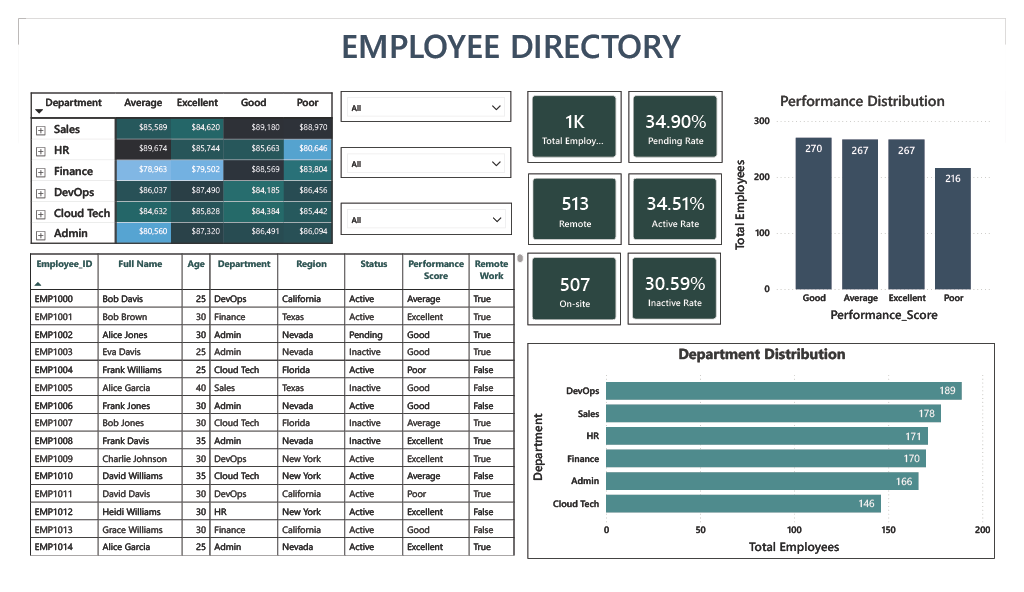

This screenshot's page, from the dashboard's own definition file:
{"tool":"powerbi","page":{"name":"Employee Details","canvas":[1280,720],"ordinal":3},"visuals":[{"type":"textbox","box":[10,0,1270,94.3],"z":0},{"type":"pivotTable","fields":{"Rows":["Sheet4.Department","Sheet4.Remote_Work"],"Columns":["Sheet4.Performance_Score"],"Values":["Avg(Sheet4.Salary)"]},"box":[11.2,90.6,401.8,209.4],"z":5000},{"type":"tableEx","fields":{"Values":["Sheet4.Employee_ID","Sheet4.Full Name","Sheet4.Age","Sheet4.Department","Sheet4.Region","Sheet4.Status","Sheet4.Performance_Score","Sheet4.Remote_Work"]},"box":[8.8,300,651.2,401],"z":5001},{"type":"slicer","fields":{"Values":["Sheet4.Full Name"]},"box":[417.6,239.4,222.4,41.2],"z":5002},{"type":"cardVisual","fields":{"Data":["Sheet4.Total Employees"]},"box":[660,94.3,121.5,92.7],"z":5003,"group":"g1"},{"type":"cardVisual","fields":{"Data":["Sheet4.Active Rate"]},"box":[791.3,201.1,120.6,92.7],"z":5004,"group":"g1"},{"type":"barChart","title":"Department Distribution","fields":{"Category":["Sheet4.Department"],"Y":["Sheet4.Total Employees"]},"box":[660,421.4,605.7,280],"z":5005},{"type":"cardVisual","fields":{"Data":["Sheet4.Inactive Rate"]},"box":[790.1,304.7,121.1,92.6],"z":5006,"group":"g1"},{"type":"columnChart","title":"Performance Distribution  ","fields":{"Category":["Sheet4.Performance_Score"],"Y":["Sheet4.Total Employees"]},"box":[922.9,94.3,342.9,304.3],"z":5007},{"type":"cardVisual","fields":{"Data":["Sheet4.Pending Rate"]},"box":[791.3,94.3,121.5,92.7],"z":5008,"group":"g1"},{"type":"cardVisual","fields":{"Data":["Sheet4.Remote"]},"box":[660.9,201.1,120.6,92.7],"z":5009,"group":"g1"},{"type":"cardVisual","fields":{"Data":["Sheet4.On-site"]},"box":[660,304.7,121.1,93.9],"z":5010,"group":"g1"},{"type":"group","id":"g1","title":"Group 1","box":[660,94.3,252.9,304.3],"z":5011},{"type":"slicer","fields":{"Values":["Sheet4.Region Group"]},"box":[417.6,167.1,221.2,40],"z":5012},{"type":"slicer","fields":{"Values":["Sheet4.Department"]},"box":[417.8,94.4,221.1,40],"z":5013}]}

Visuals, with their boxes in screenshot pixels (x1, y1, x2, y2), scaled from the page's 1280x720 canvas onto the 1024x592 screenshot:
textbox: crop(8, 0, 1023, 78)
pivotTable - Sheet4.Department x Sheet4.Remote_Work: crop(9, 74, 330, 247)
tableEx - Sheet4.Employee_ID x Sheet4.Full Name: crop(7, 247, 528, 576)
slicer - Sheet4.Full Name: crop(334, 197, 512, 231)
cardVisual - Sheet4.Total Employees: crop(528, 78, 625, 154)
cardVisual - Sheet4.Active Rate: crop(633, 165, 730, 242)
"Department Distribution" barChart: crop(528, 346, 1013, 577)
cardVisual - Sheet4.Inactive Rate: crop(632, 251, 729, 327)
"Performance Distribution  " columnChart: crop(738, 78, 1013, 328)
cardVisual - Sheet4.Pending Rate: crop(633, 78, 730, 154)
cardVisual - Sheet4.Remote: crop(529, 165, 625, 242)
cardVisual - Sheet4.On-site: crop(528, 251, 625, 328)
"Group 1" group: crop(528, 78, 730, 328)
slicer - Sheet4.Region Group: crop(334, 137, 511, 170)
slicer - Sheet4.Department: crop(334, 78, 511, 111)
